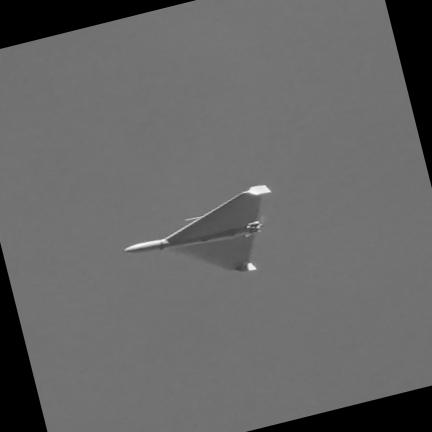Shahed: (125, 184, 271, 270)
